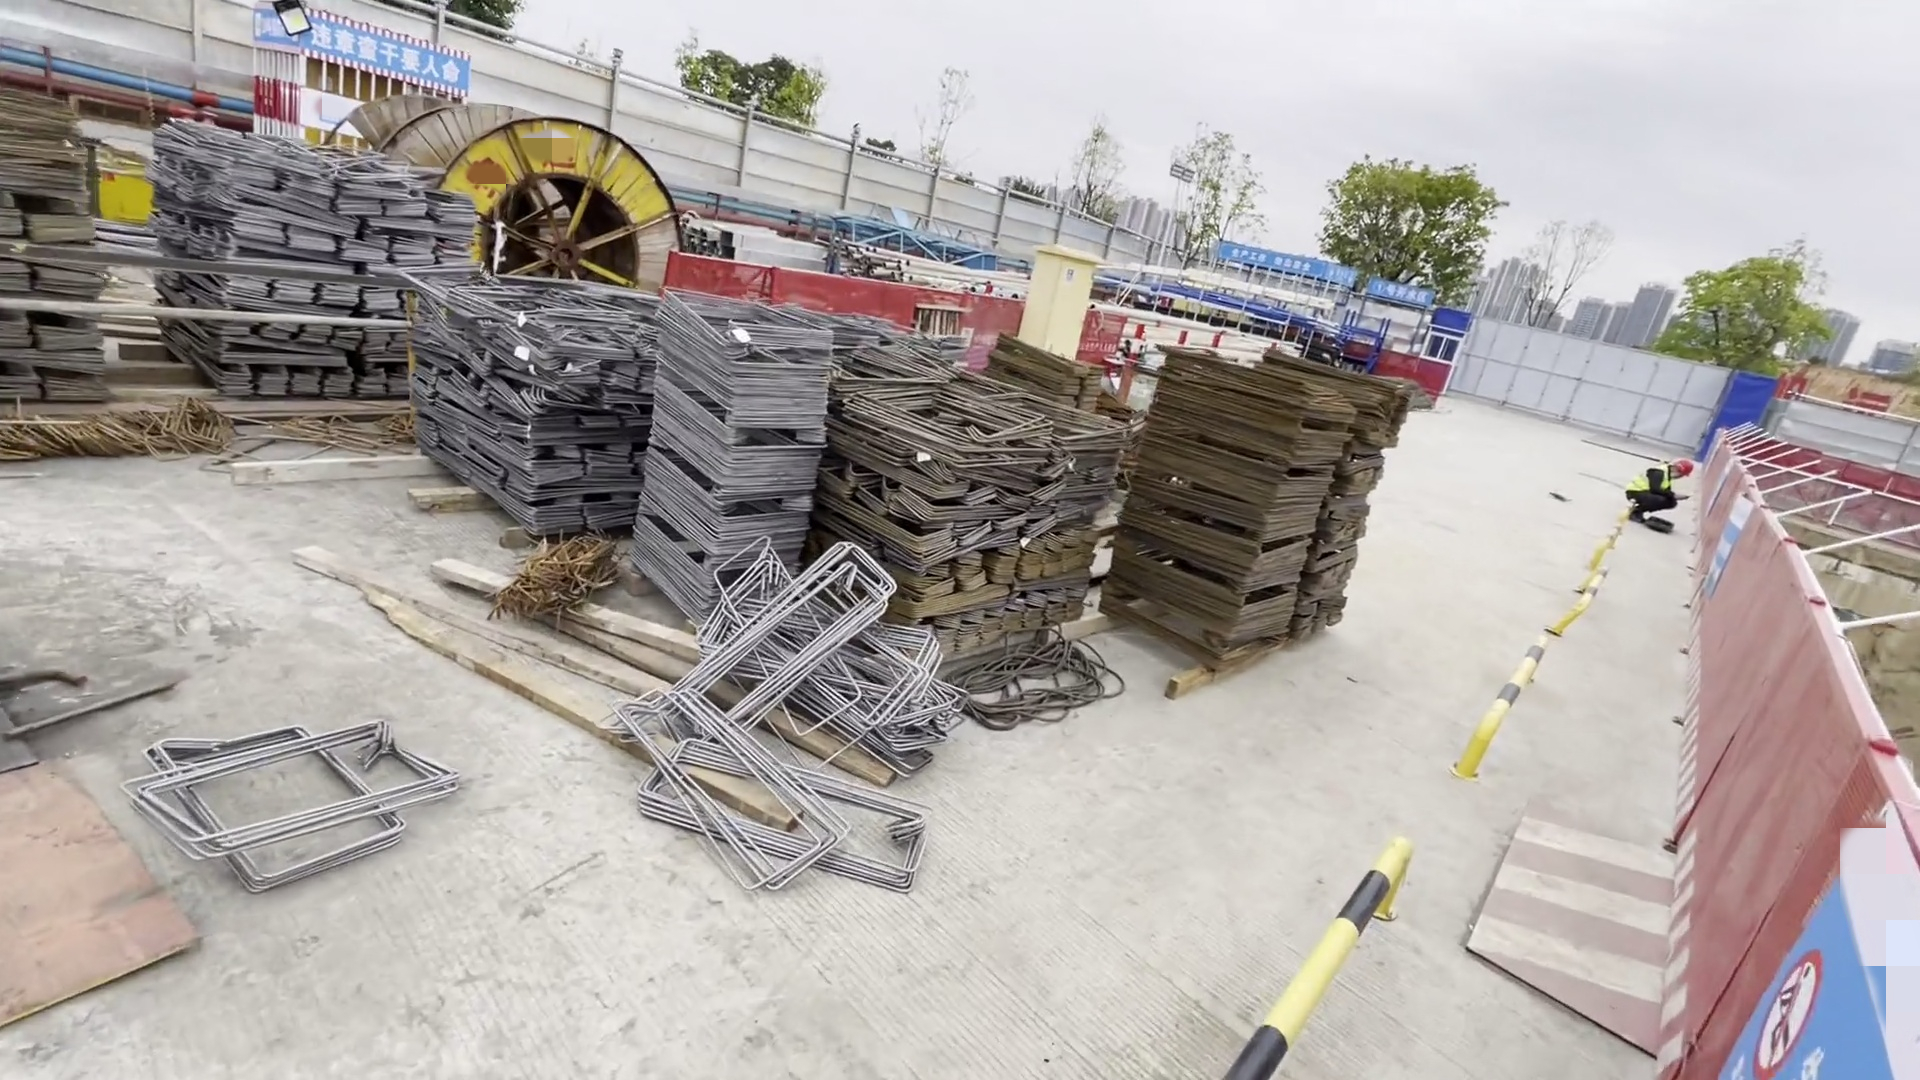ebox: (1014, 240, 1102, 375)
fence: (1676, 423, 1915, 1079), (665, 252, 1012, 369)
helmet: (1673, 456, 1695, 475)
person: (1622, 452, 1695, 534)
rebar: (1382, 380, 1438, 416)
slogan: (1228, 243, 1313, 273)
vest: (1625, 462, 1666, 494)
